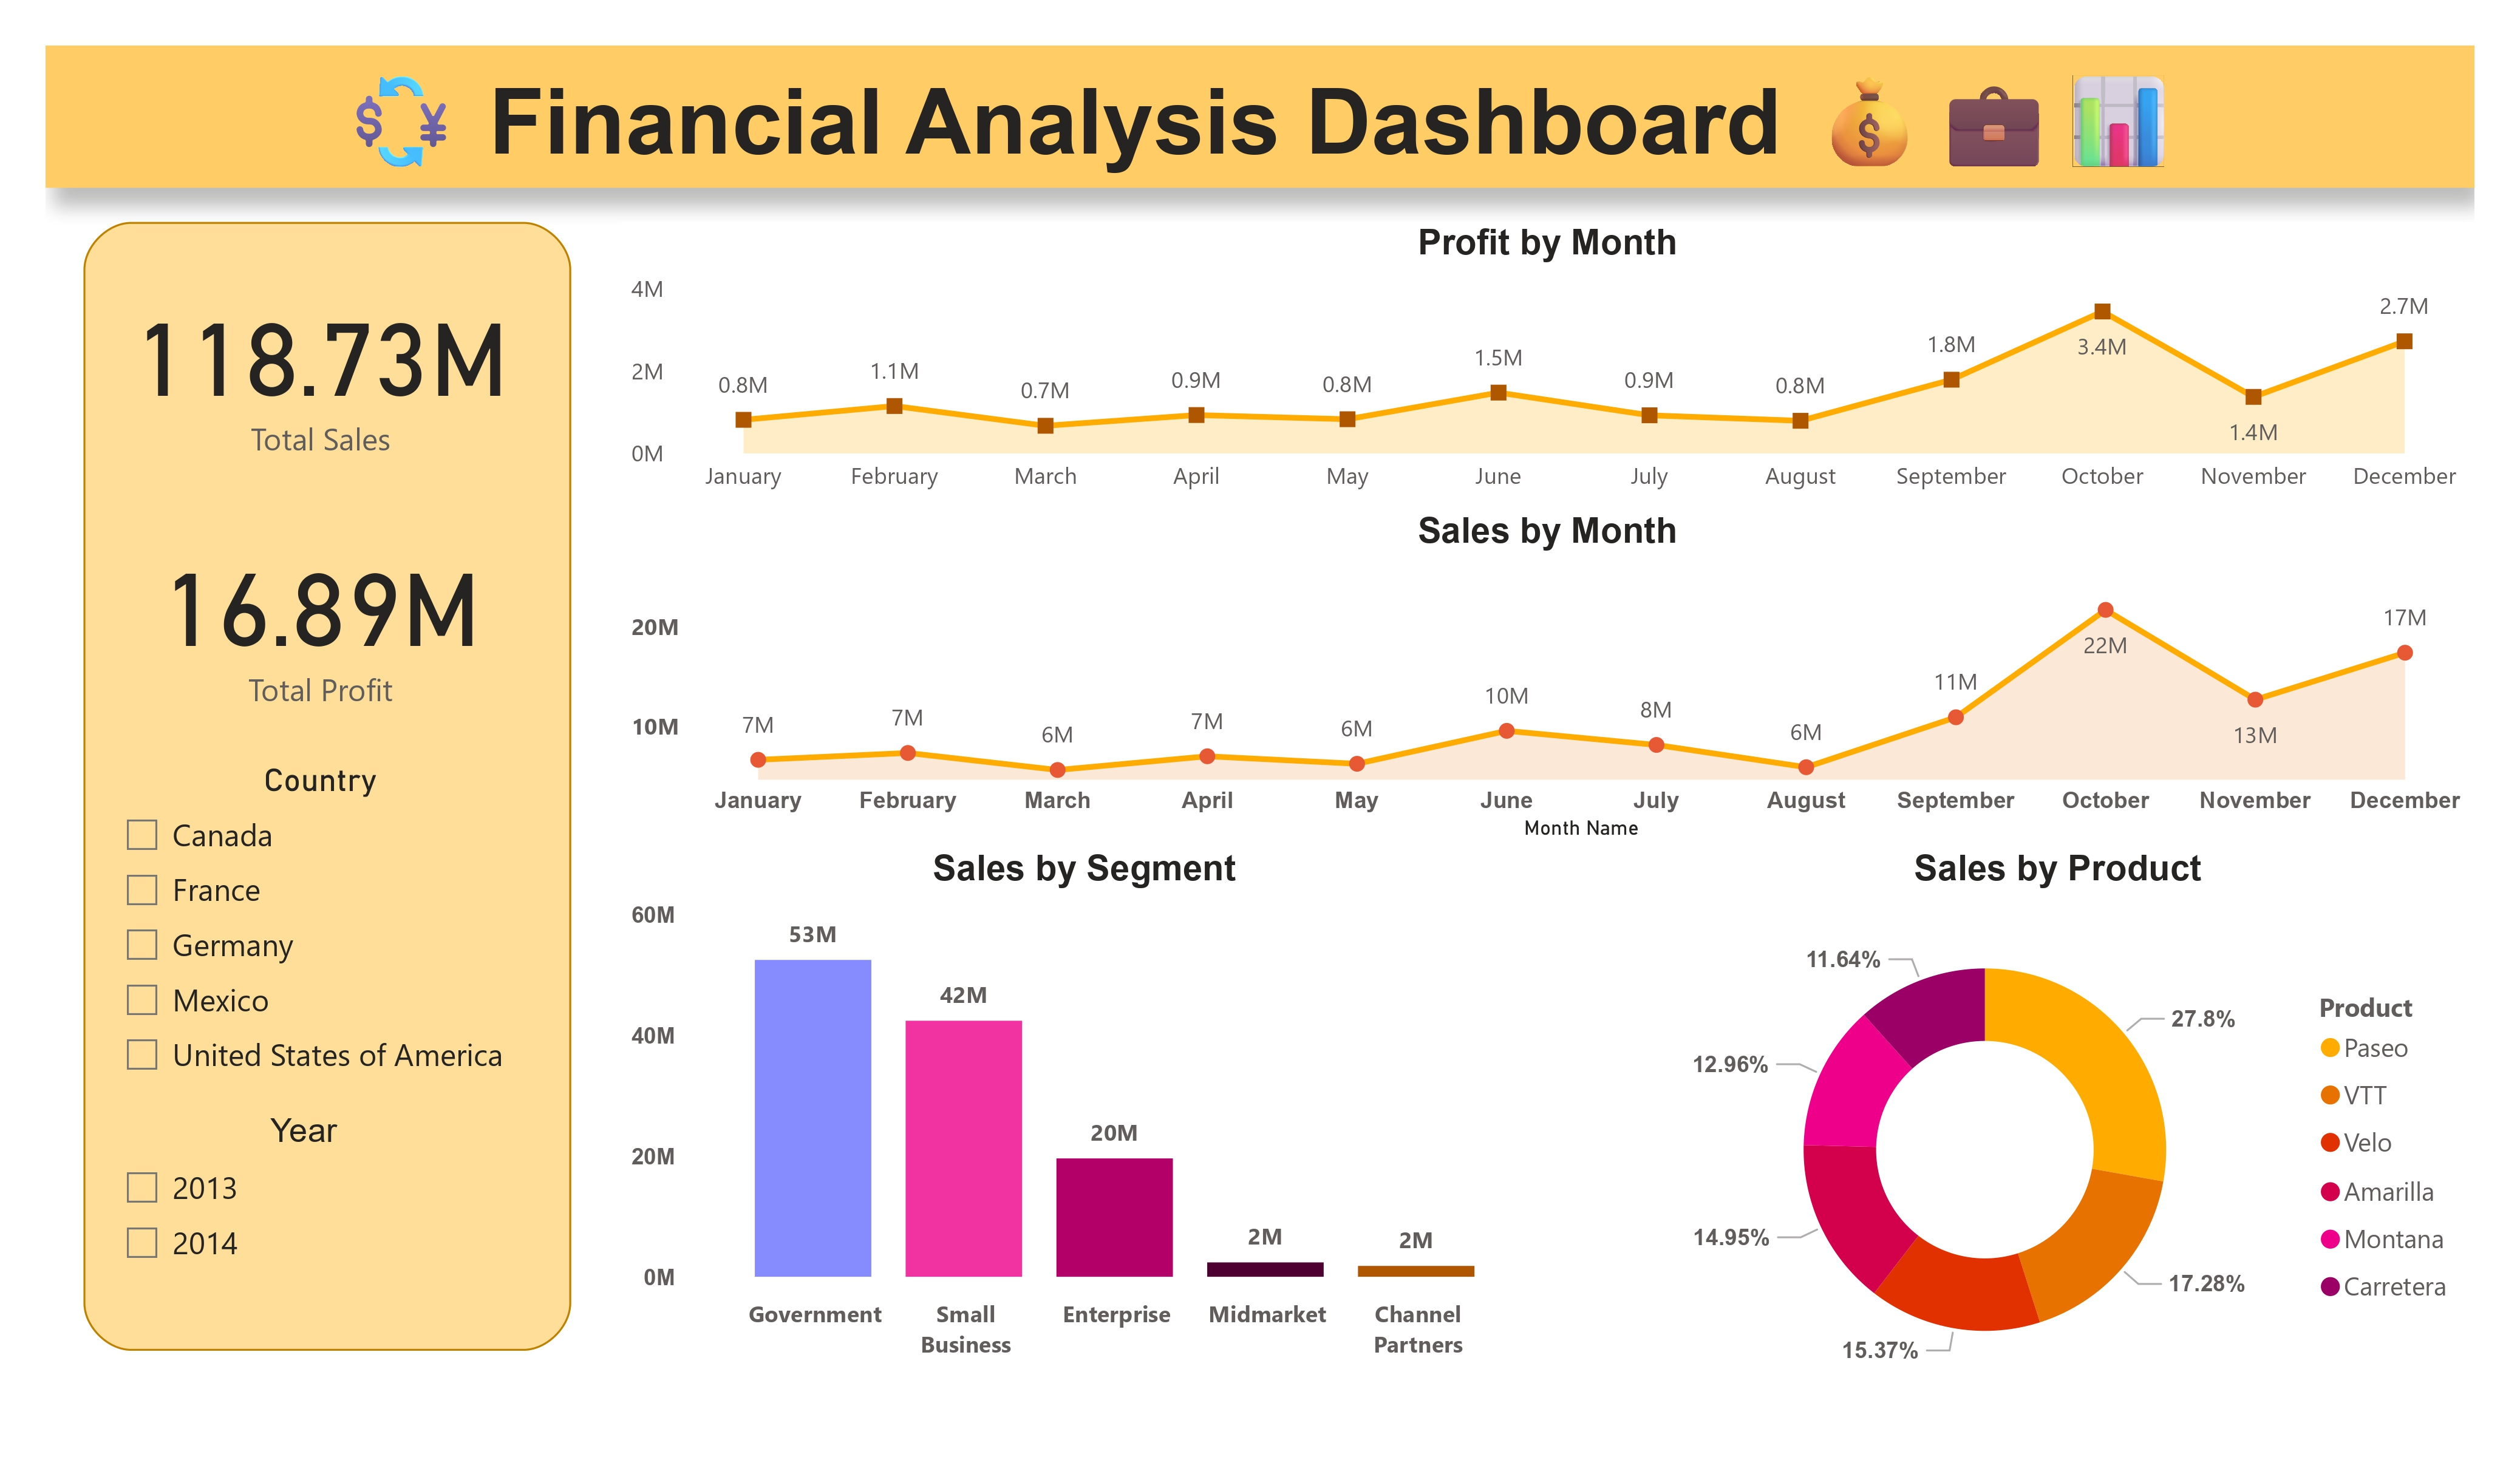

This screenshot's page, from the dashboard's own definition file:
{"tool":"powerbi","page":{"name":"Page 1","canvas":[1280,720],"ordinal":0},"visuals":[{"type":"textbox","box":[0,0,1280.5,74.6],"z":0},{"type":"columnChart","title":"Sales by Segment","fields":{"Category":["financials.Segment"],"Y":["Sum(financials. Sales)"]},"box":[302.9,422.9,488.8,276.6],"z":1000},{"type":"donutChart","title":"Sales by Product","fields":{"Category":["financials.Product"],"Y":["Sum(financials. Sales)"]},"box":[841.4,422.9,438.6,297.1],"z":2000},{"type":"lineChart","title":"Sales by Month","fields":{"Y":["Sum(financials. Sales)"],"Category":["financials.Month Name"]},"box":[303.3,245,976.7,178.3],"z":3000},{"type":"lineChart","title":"Profit by Month","fields":{"Category":["financials.Month Name"],"Y":["Sum(financials.Profit)"]},"box":[303.3,93.3,976.7,151.7],"z":4000},{"type":"shape","box":[20,93.3,256.7,595],"z":5000},{"type":"slicer","title":"Country","fields":{"Values":["financials.Country"]},"box":[30,376.7,230,185],"z":6000},{"type":"slicer","title":"Year","fields":{"Values":["financials.Year"]},"box":[30,561.7,211.7,90],"z":7000},{"type":"card","fields":{"Values":["Sum(financials. Sales)"]},"box":[40,113.3,210,111.7],"z":8000},{"type":"card","fields":{"Values":["Sum(financials.Profit)"]},"box":[40,245,210,111.7],"z":9000}]}

Visuals, with their boxes on the page's 1280x720 design canvas (x1, y1, x2, y2). These are canvas units, not pixel positions in the 2520x1457 screenshot, which may show the page scaled, cropped or inside an application window:
textbox: 0,0,1280,75
"Sales by Segment" columnChart: 303,423,792,700
"Sales by Product" donutChart: 841,423,1280,720
"Sales by Month" lineChart: 303,245,1280,423
"Profit by Month" lineChart: 303,93,1280,245
shape: 20,93,277,688
"Country" slicer: 30,377,260,562
"Year" slicer: 30,562,242,652
card - Sum(financials. Sales): 40,113,250,225
card - Sum(financials.Profit): 40,245,250,357
